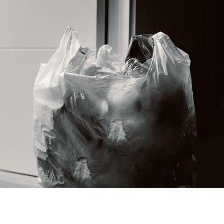plastic_bag: (26, 17, 210, 190)
